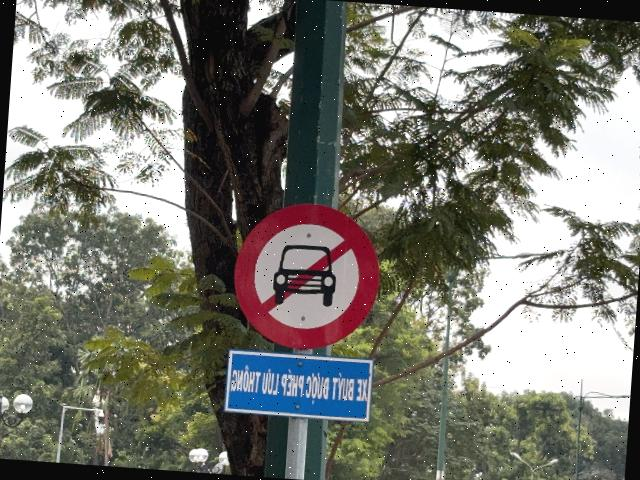cam-o-to: (228, 197, 384, 352)
